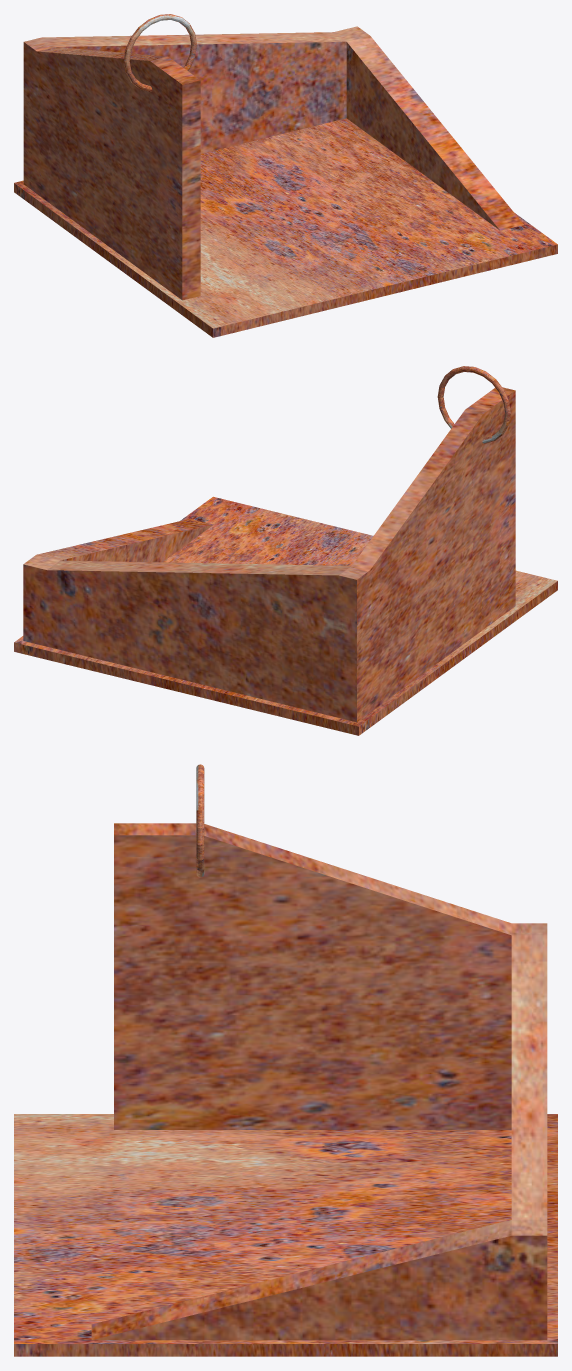
File: nivel_altura.fbx
The picture shows the model from 3 angles, top to bottom: view 1: azimuth 30°, elevation 25°; view 2: azimuth 150°, elevation 25°; view 3: azimuth 270°, elevation 25°; orthographic projection. The views are drawn at different scales.
Visible parts, largest first — view 1: Plane.001, Plane, Torus; view 2: Plane.001, Plane, Torus; view 3: Plane.001, Plane, Torus.
Boxes of the visible parts, x1=… form: Plane.001: x1=23, y1=26, x2=523, y2=300; Plane: x1=14, y1=118, x2=557, y2=337; Torus: x1=124, y1=14, x2=196, y2=91; Plane.001: x1=23, y1=387, x2=515, y2=722; Plane: x1=14, y1=496, x2=557, y2=735; Torus: x1=437, y1=366, x2=510, y2=443; Plane.001: x1=91, y1=823, x2=547, y2=1340; Plane: x1=14, y1=1114, x2=557, y2=1356; Torus: x1=196, y1=764, x2=204, y2=877.
Bounding box in the file's own units: 424 × 298 × 400.
1 material, 1 textured.
